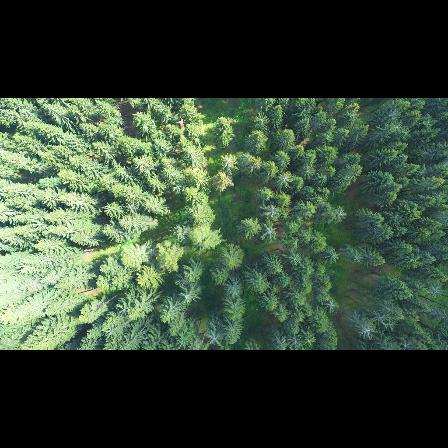Sick: (204, 328, 225, 347), (355, 322, 377, 339), (219, 152, 238, 170), (177, 290, 195, 307), (259, 225, 275, 243), (323, 298, 340, 314), (298, 163, 316, 178), (276, 172, 293, 186), (332, 206, 345, 221), (391, 119, 404, 132)
